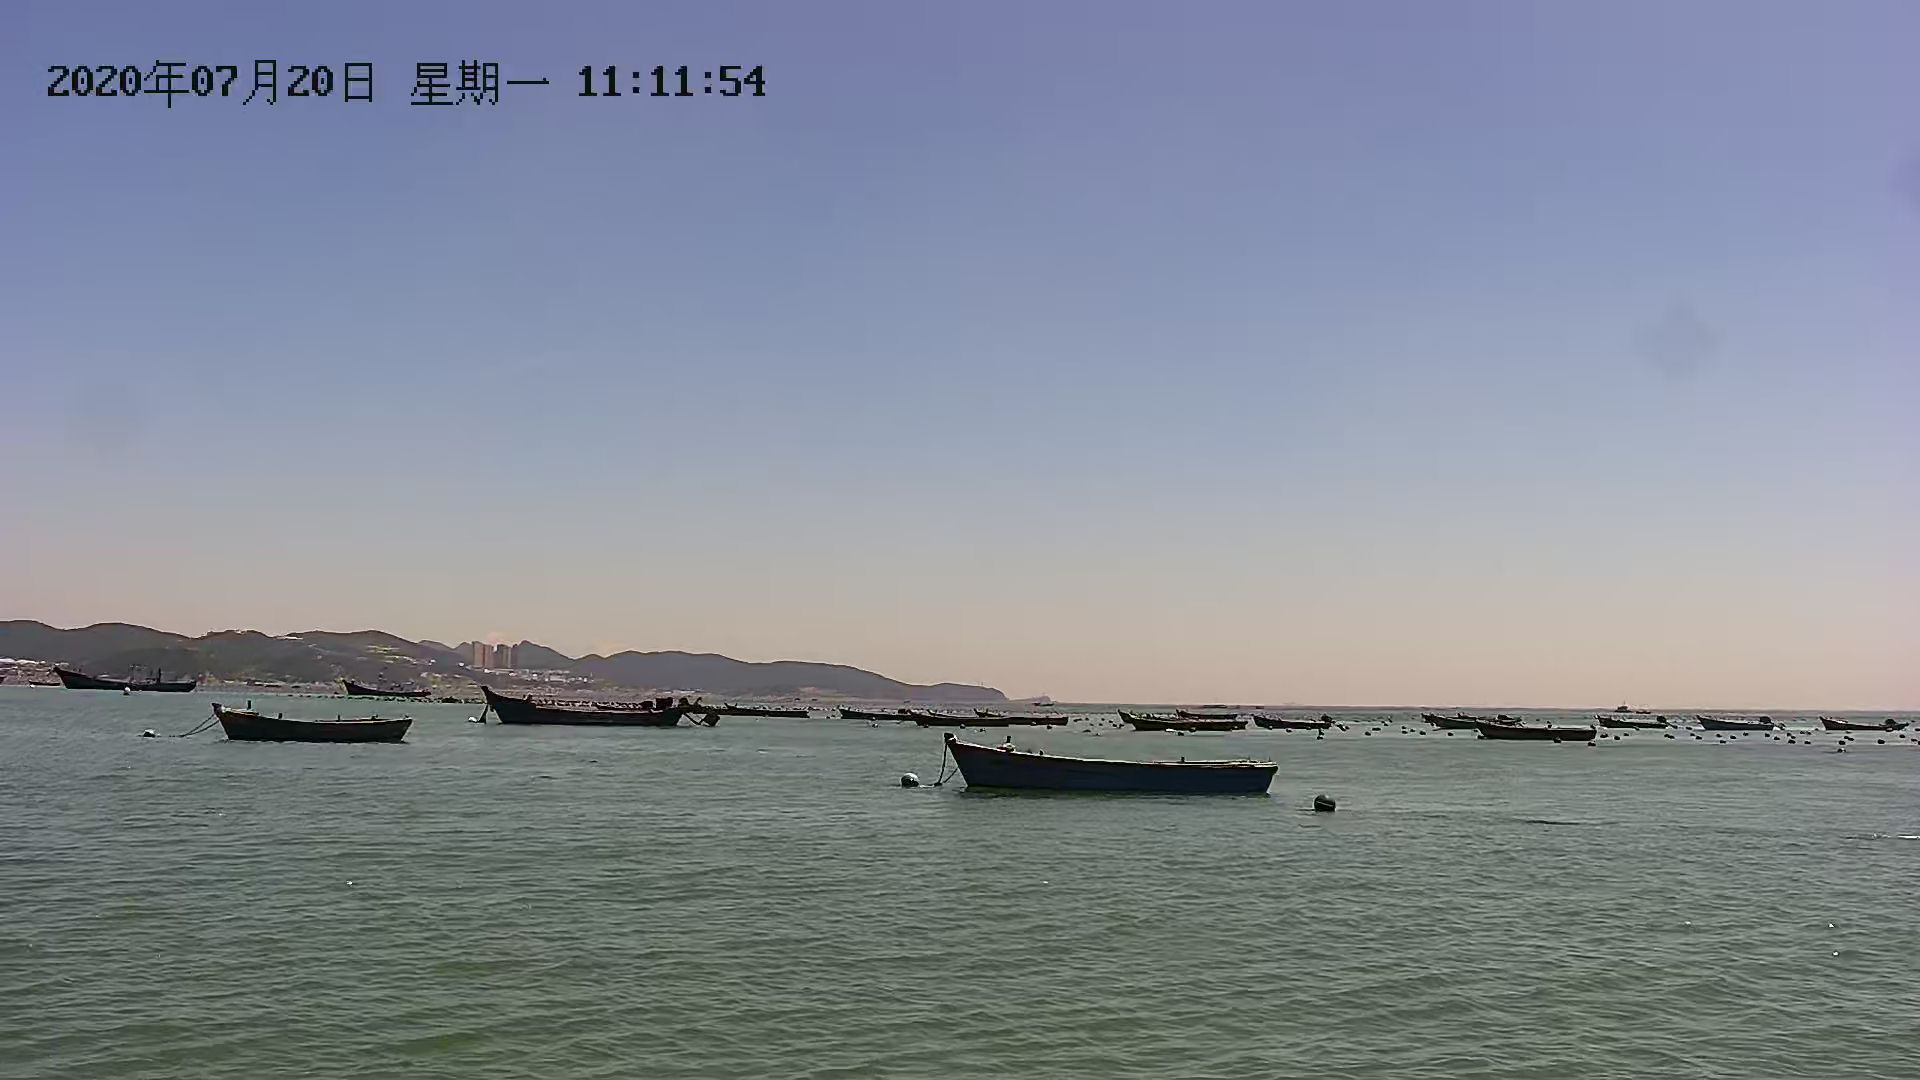ball: (1305, 791, 1344, 818), (899, 771, 919, 787)
boat: (926, 738, 1294, 799), (475, 686, 702, 735), (200, 704, 419, 742), (51, 673, 215, 698), (1455, 713, 1592, 741), (1125, 709, 1249, 736), (915, 708, 1029, 732), (1818, 712, 1920, 738), (712, 698, 818, 721), (1698, 716, 1799, 738), (845, 708, 944, 728), (1255, 712, 1340, 735)
